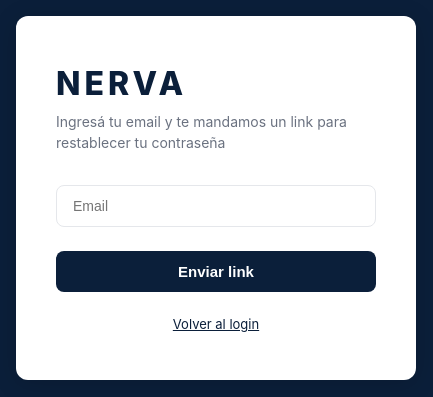
Test: ForgotPassword › pide el link y muestra un mensaje genérico (sin confirmar si el email existe)
Type "user@nerva.test" into the field with placeholder "Email". click: (216, 206)
box: x1=56 y1=185 x2=376 y2=227
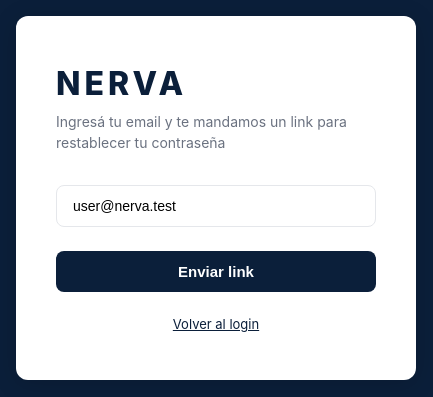
Click the button "Enviar link". click: click(216, 272)
box: x1=56 y1=251 x2=376 y2=292
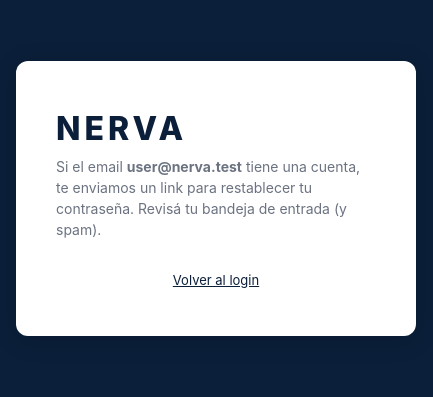
Now the text "te enviamos un link" is shown, box x1=56 y1=158 x2=360 y2=238
